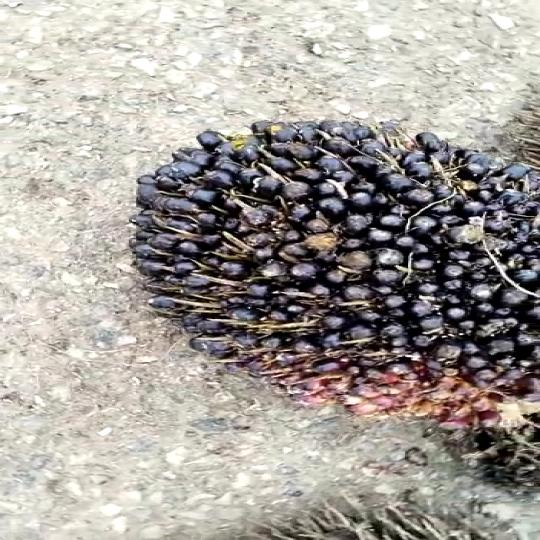mentah: (102, 103, 540, 442)
